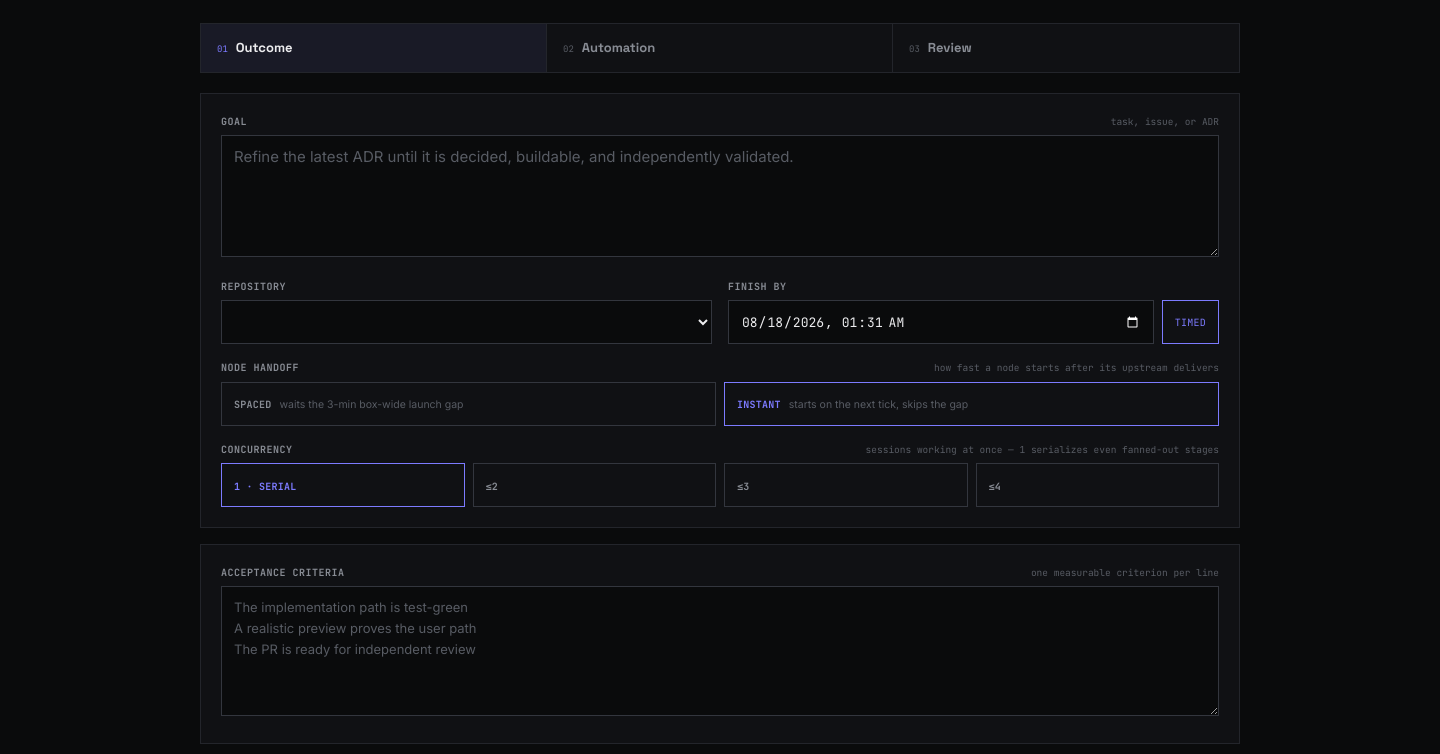
Scenario: create-form graph preview › re-shapes the graph when the sequence is customized
Replace the text in the text box labelled "Goal task, issue, or ADR" with "Ship the thing" at [720, 196], box [221,135,1219,257]
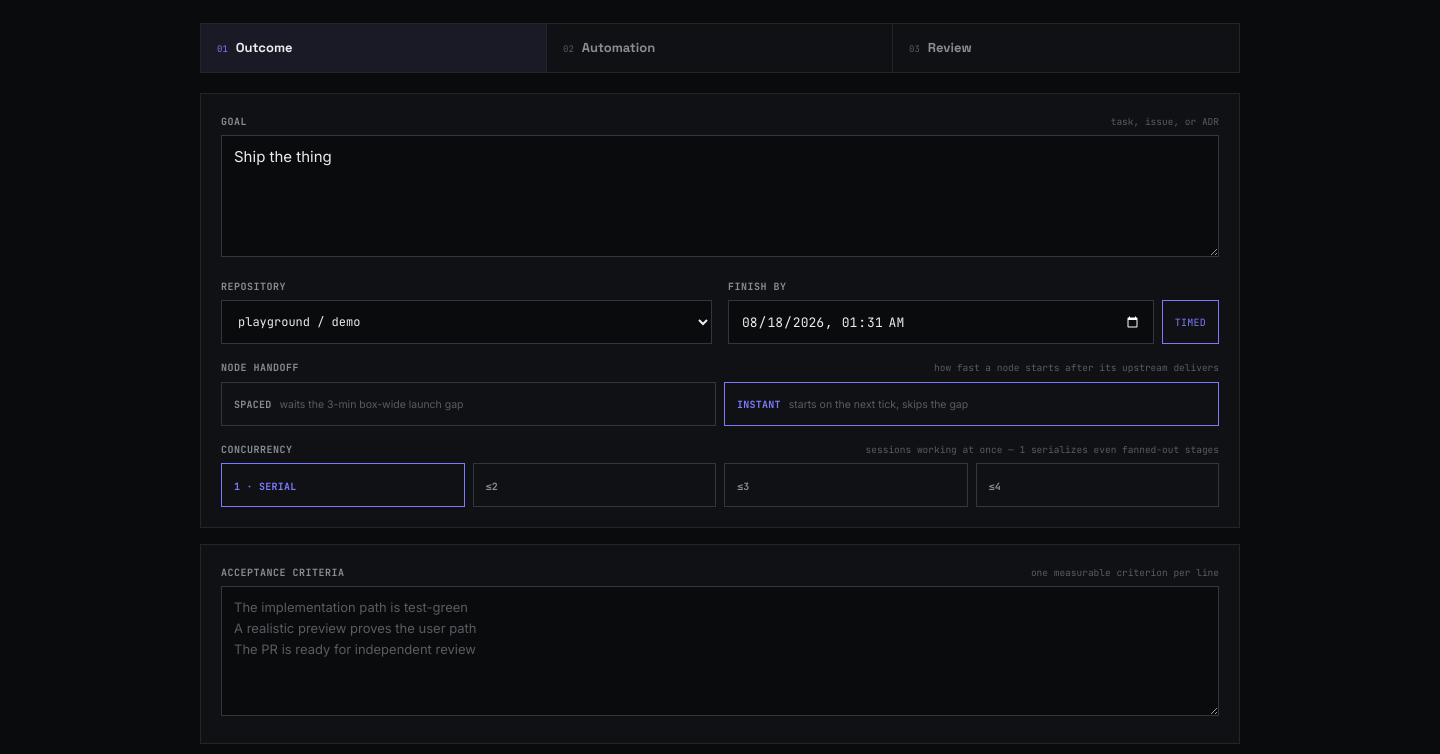
Replace the text in the text box labelled "Acceptance criteria one measurable criterion per line" with "It works" at [720, 651], box [221,586,1219,716]
(page scrolled)
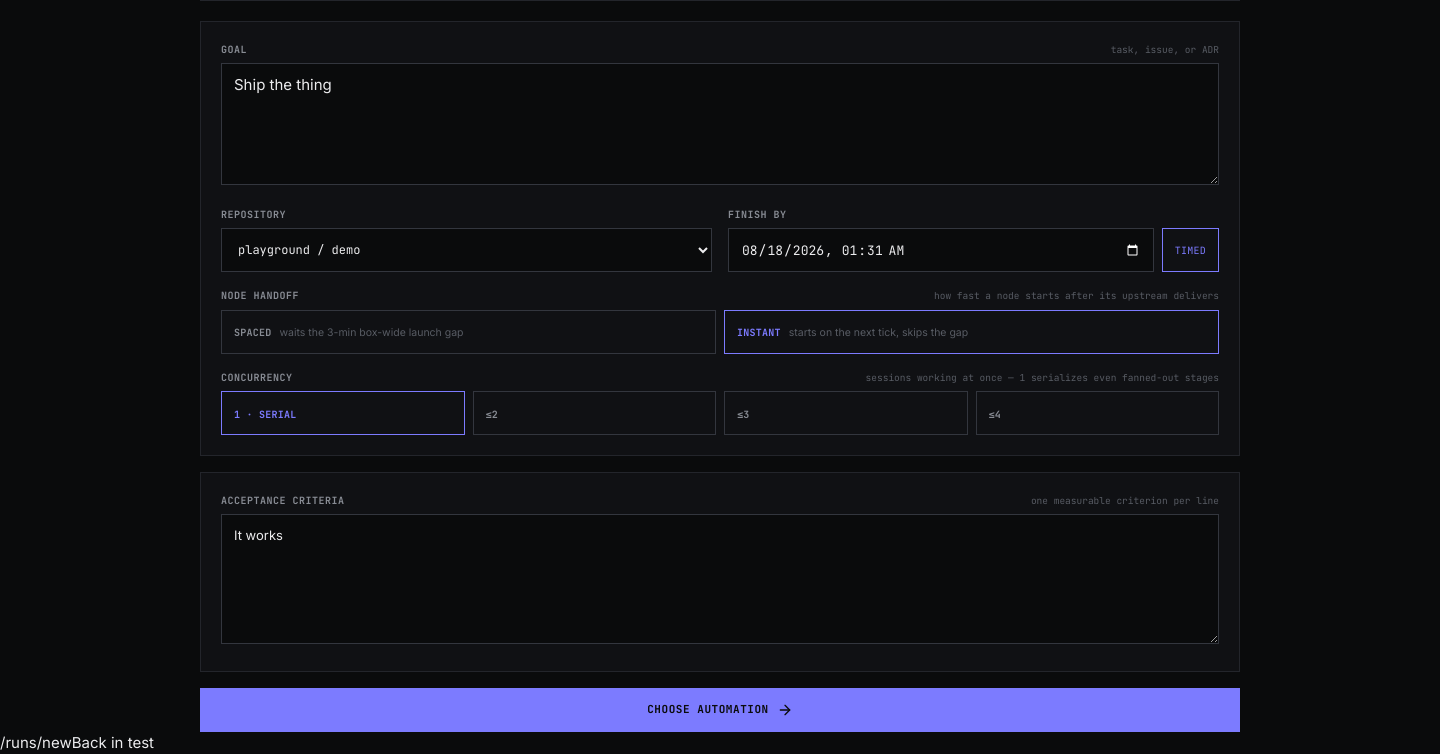
Click the button "Choose automation".
click(720, 710)  # box [200,688,1240,732]
(page scrolled)
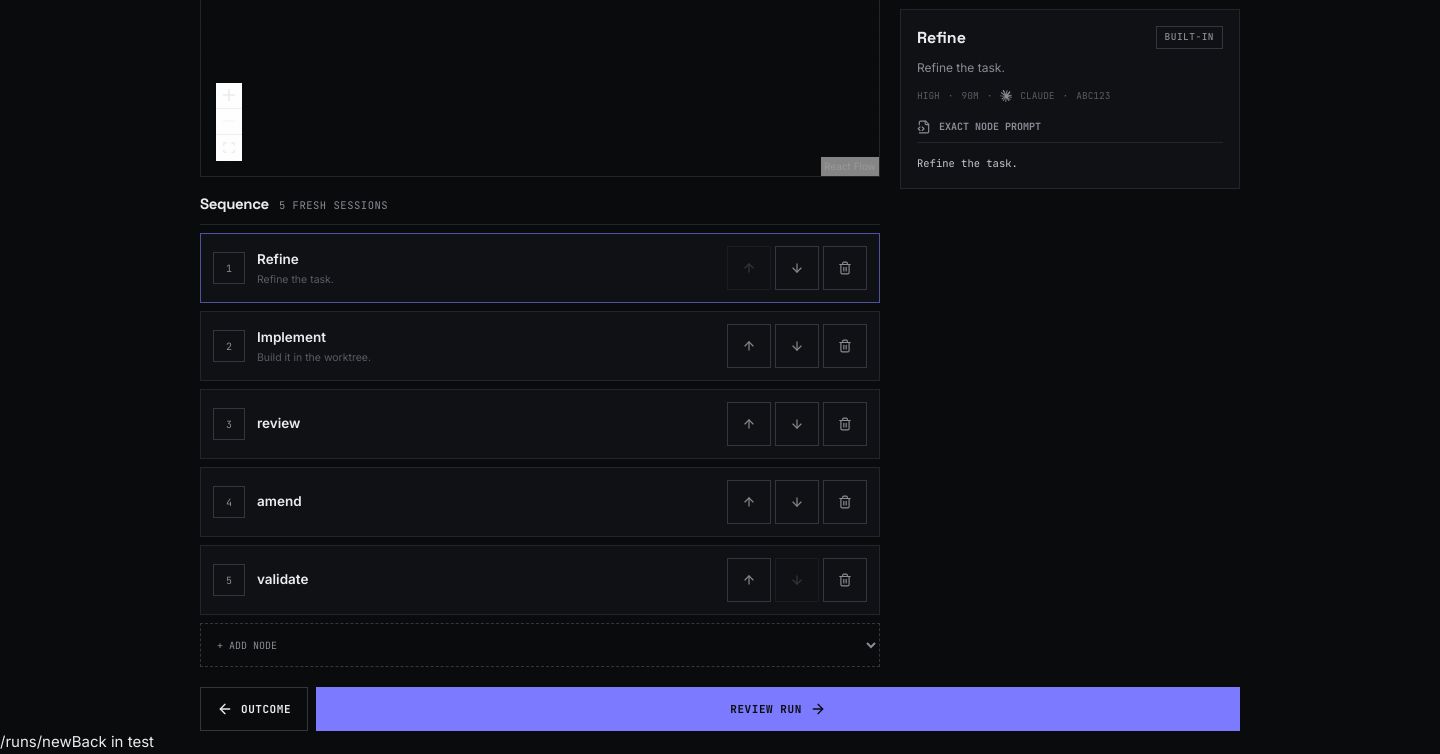
Click the button named "Remove validate".
click(845, 580)  # box [823,558,867,602]
(page scrolled)
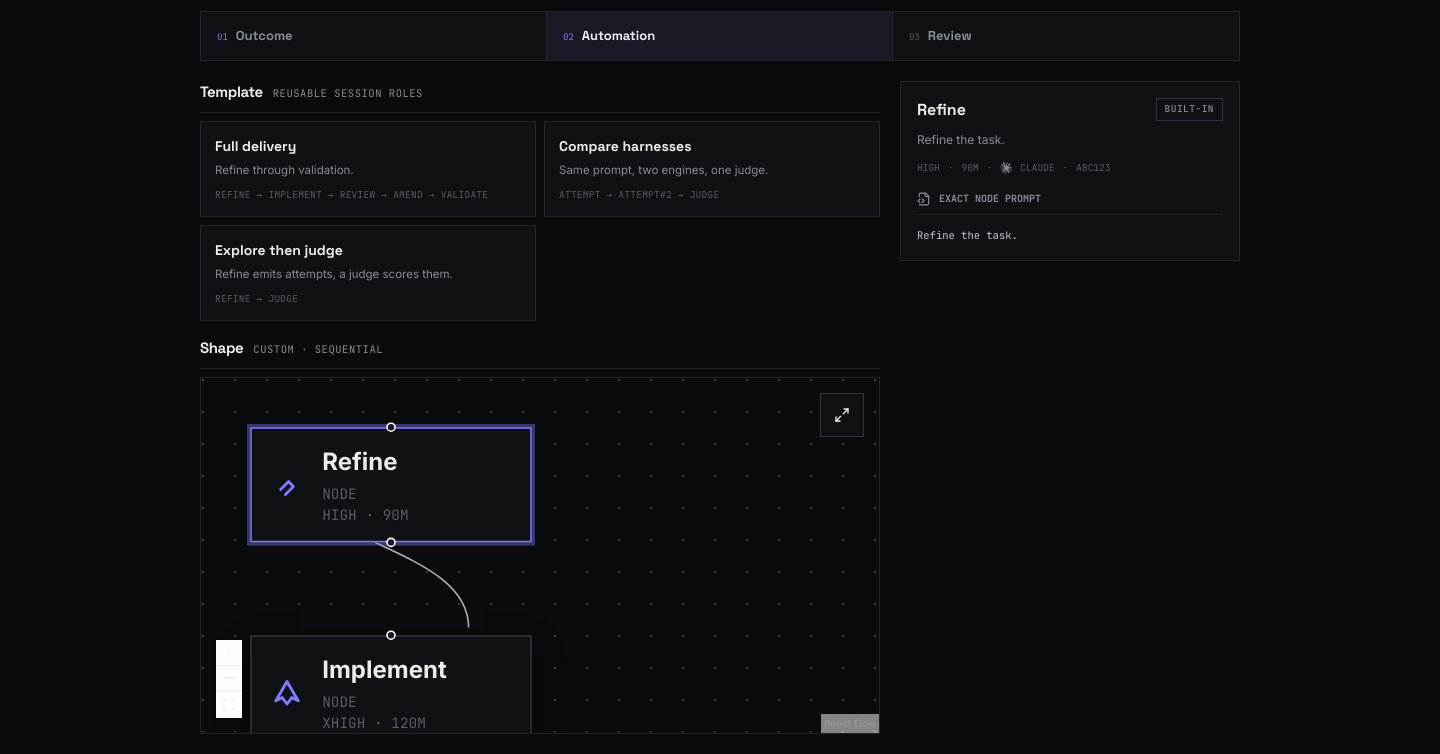
Now the text "custom · sequential" is shown, box [253,342,383,358]
